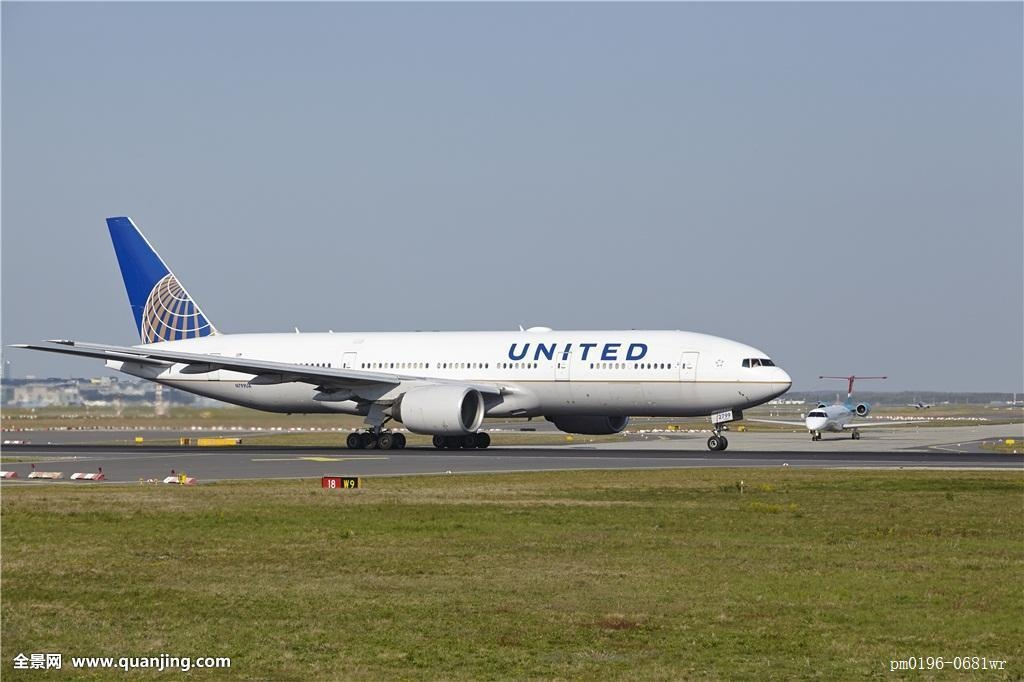airplane: (19, 216, 789, 444), (782, 372, 930, 443)
